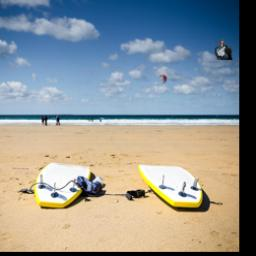Woodpecker: (215, 37, 232, 60)
